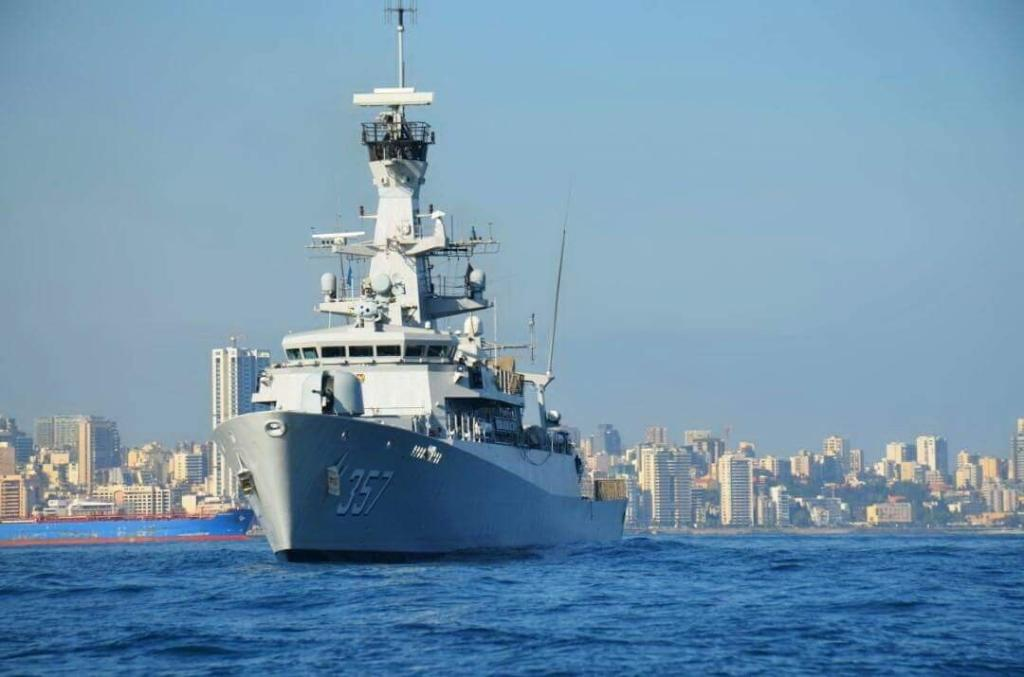Warship: (210, 1, 630, 562)
